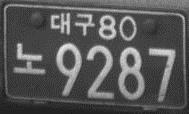0: (118, 14, 137, 42)
2: (85, 44, 115, 100)
7: (146, 46, 178, 103)
8: (116, 46, 146, 101), (97, 13, 116, 39)
9: (54, 41, 83, 96)
노: (12, 41, 47, 77)
대구_O: (49, 11, 95, 36)
